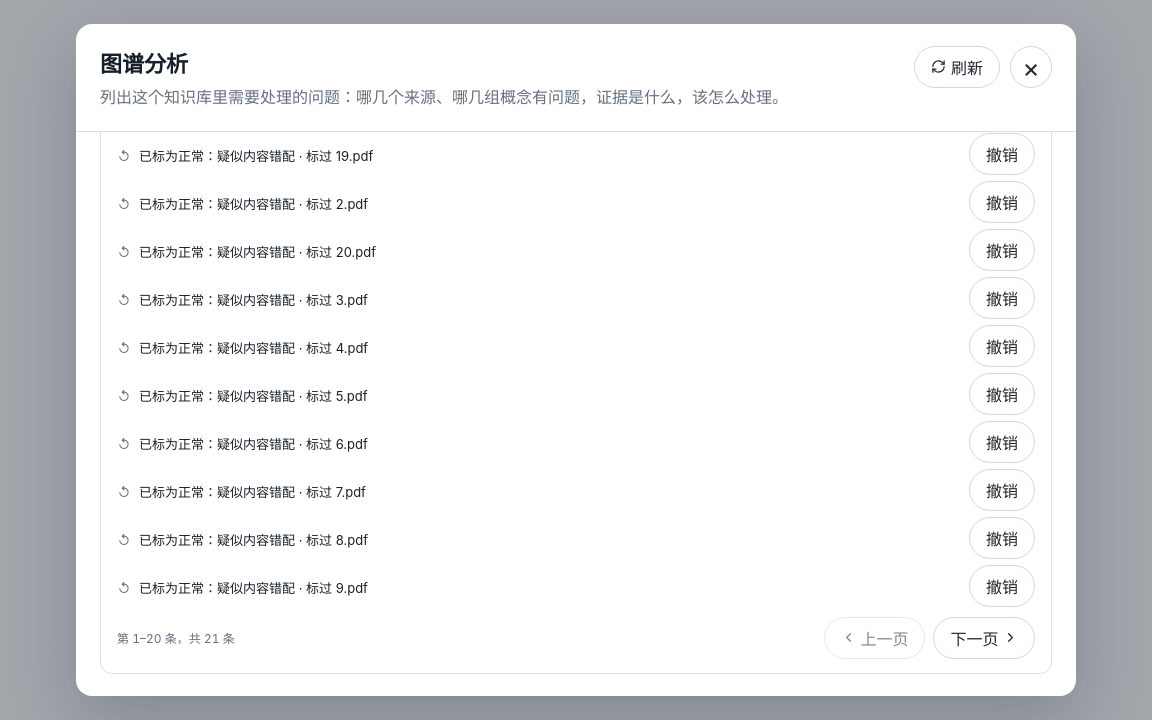
Test: 「已标为正常」停在已经不存在的那一页时退回上一页（撤销第 2 页的最后一条之后）
The width and height of the screenshot is (1152, 720).
(page scrolled)
Expected: the element named "已标为正常的分页" is shown, [117,617,1035,659]
Click the button "下一页" at (984, 638), box [934,617,1035,659]
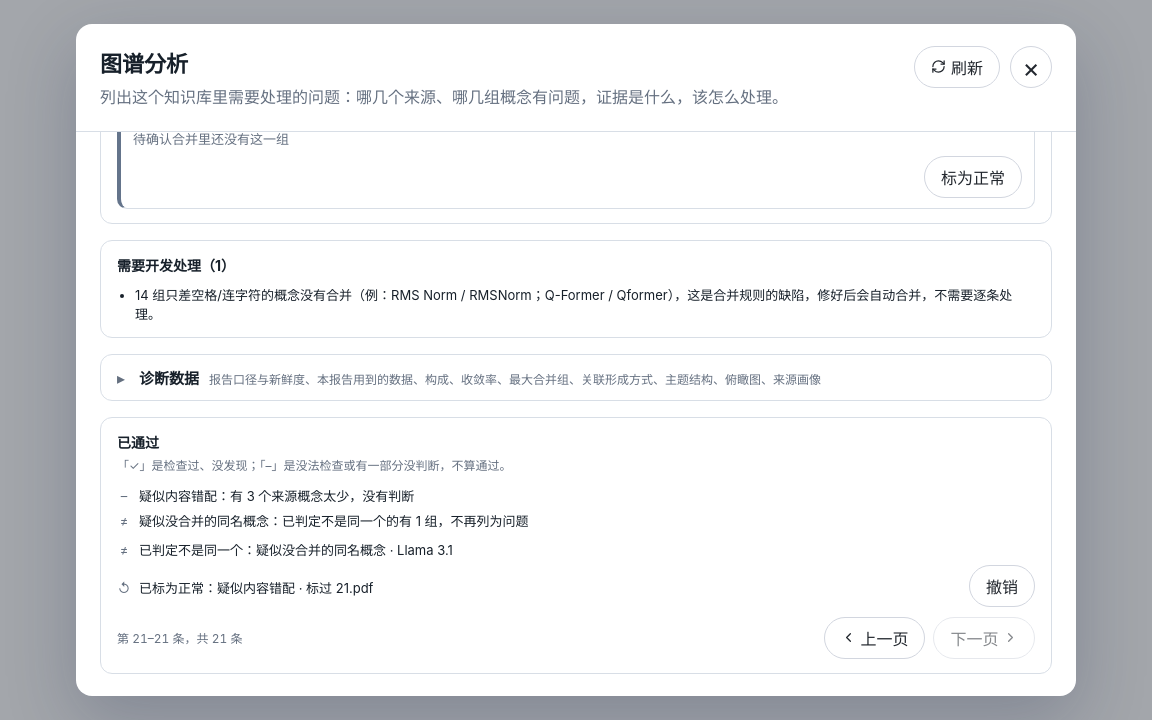
Result: the text "已标为正常：疑似内容错配 · 标过 21.pdf" is shown at [139,580,373,596]
Click the button "撤销" at (1002, 586), box [969,565,1035,607]
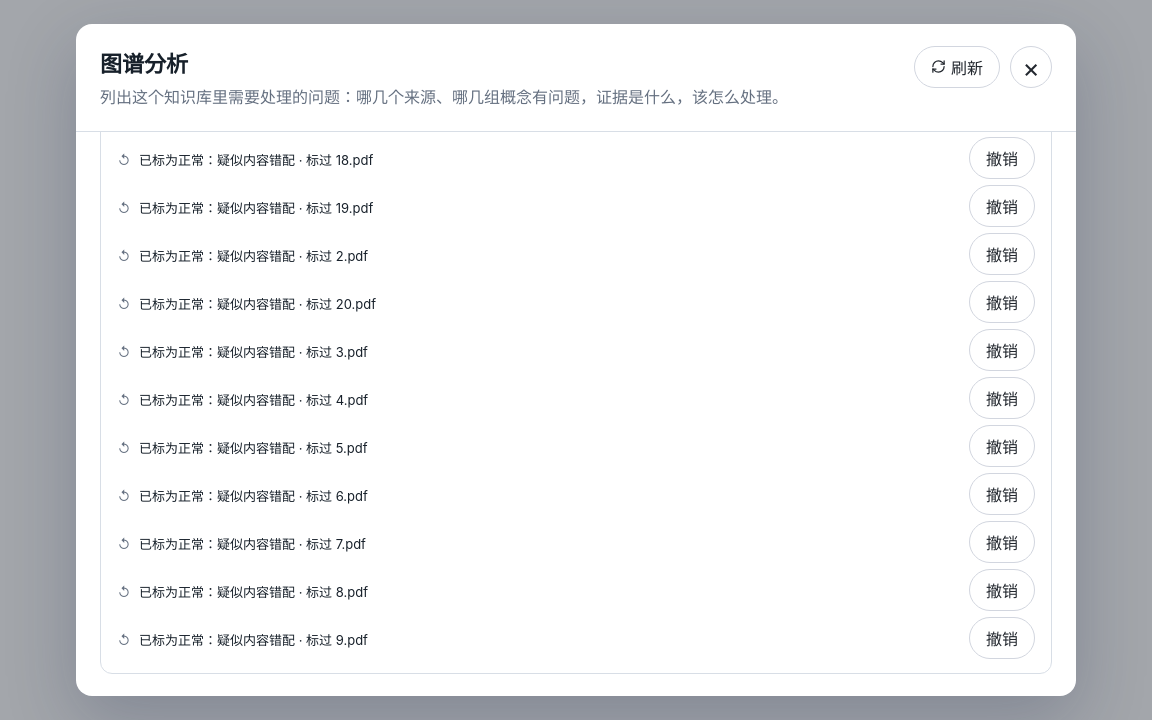
Result: the text "已标为正常：疑似内容错配 · 标过 20.pdf" is shown at [139,296,376,312]
